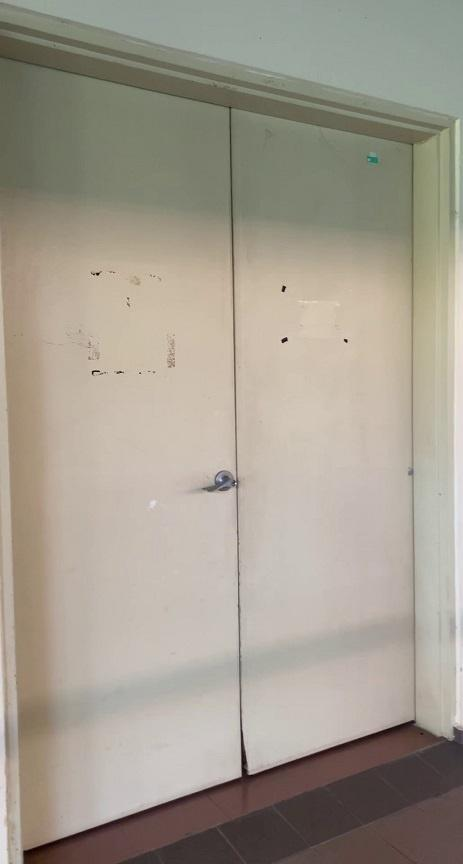door: (0, 48, 238, 864)
